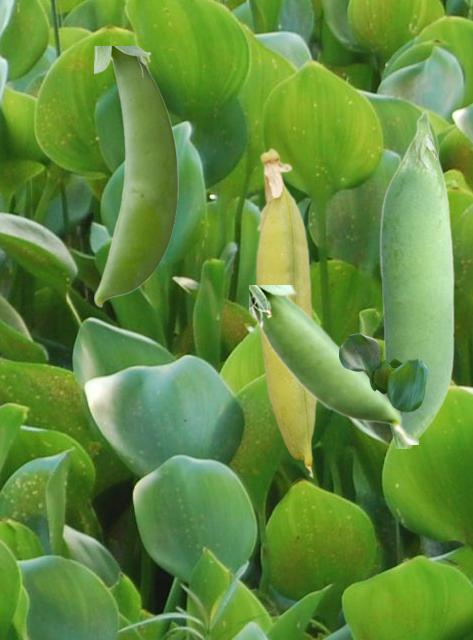pea: (249, 285, 417, 443), (379, 110, 453, 447), (94, 46, 177, 306), (255, 147, 317, 477)
